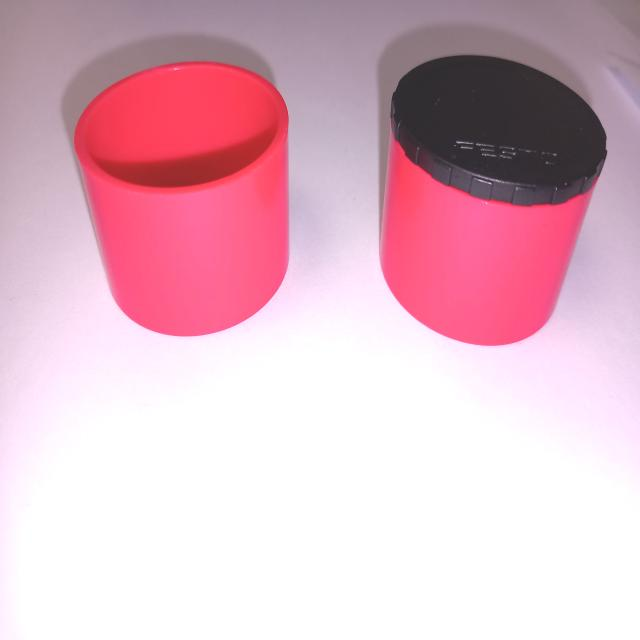NoLid: (64, 52, 311, 333)
Workpiece: (365, 45, 610, 350)
